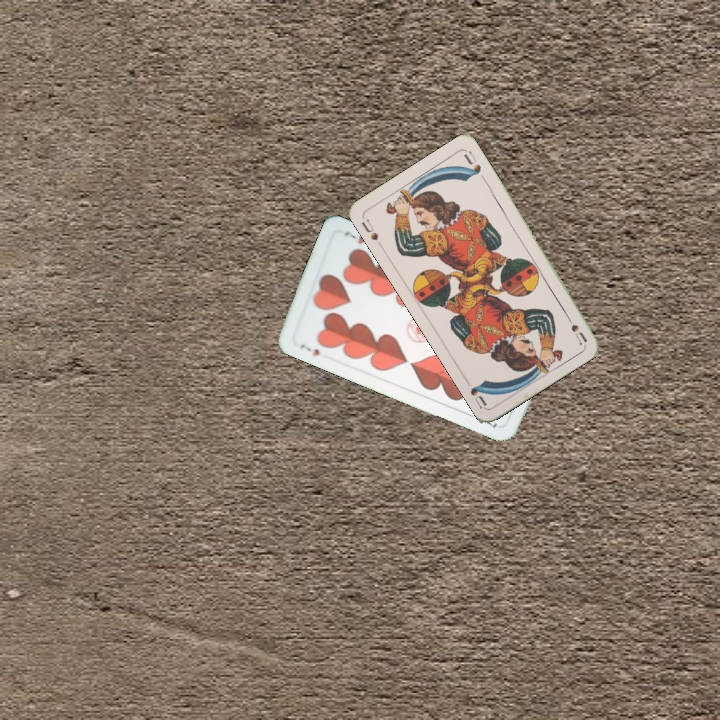H7: (296, 339, 323, 359)
SU: (561, 309, 590, 346), (357, 215, 381, 243)
